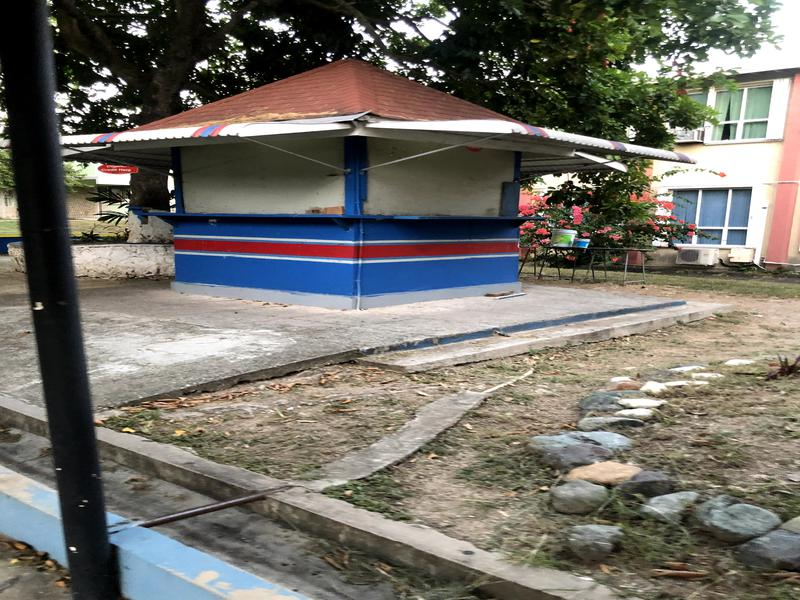18.0050609_-76.7496662_auntyjackie: (39, 46, 710, 324)
